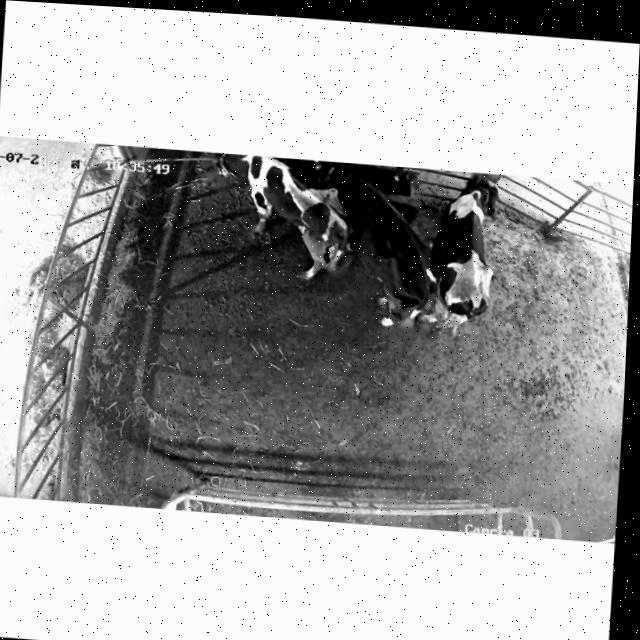stand: (199, 150, 355, 289), (423, 167, 506, 342)
